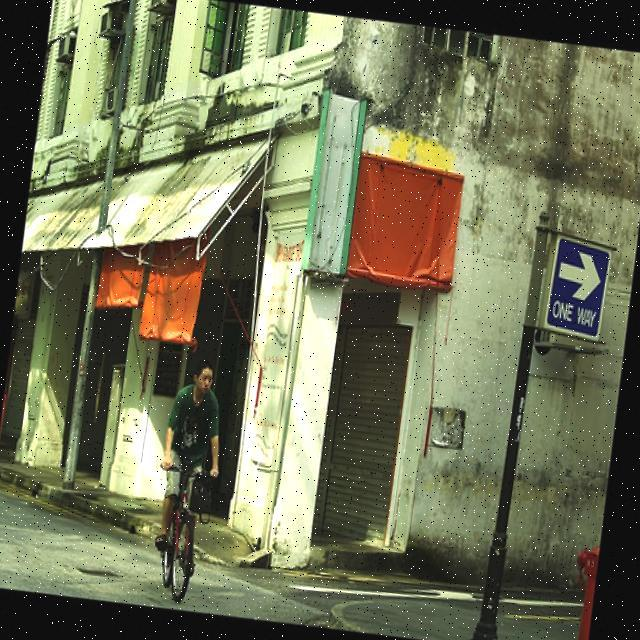fire_hydrant: (563, 543, 599, 640)
